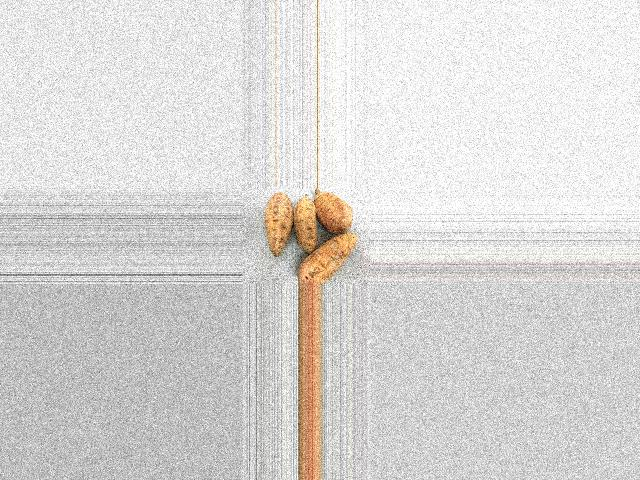sweet_potato: (291, 233, 363, 284)
